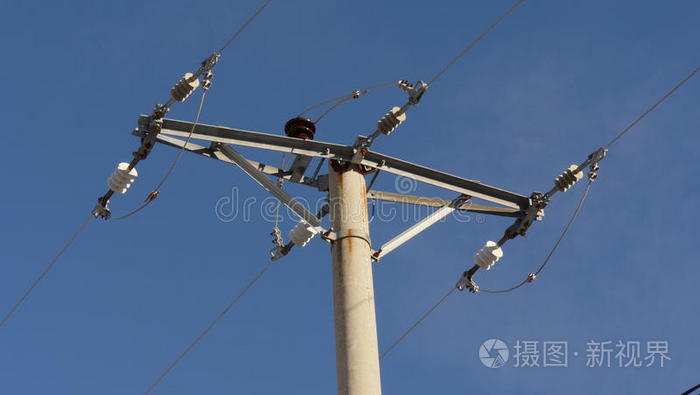insulator: (107, 162, 139, 196), (552, 161, 585, 192), (475, 239, 500, 273), (375, 106, 403, 135), (172, 72, 197, 102), (288, 221, 314, 249)
